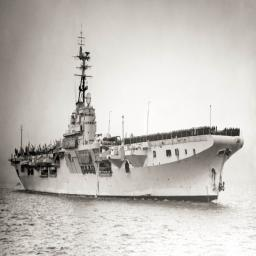Portanaves: (8, 26, 247, 206)
